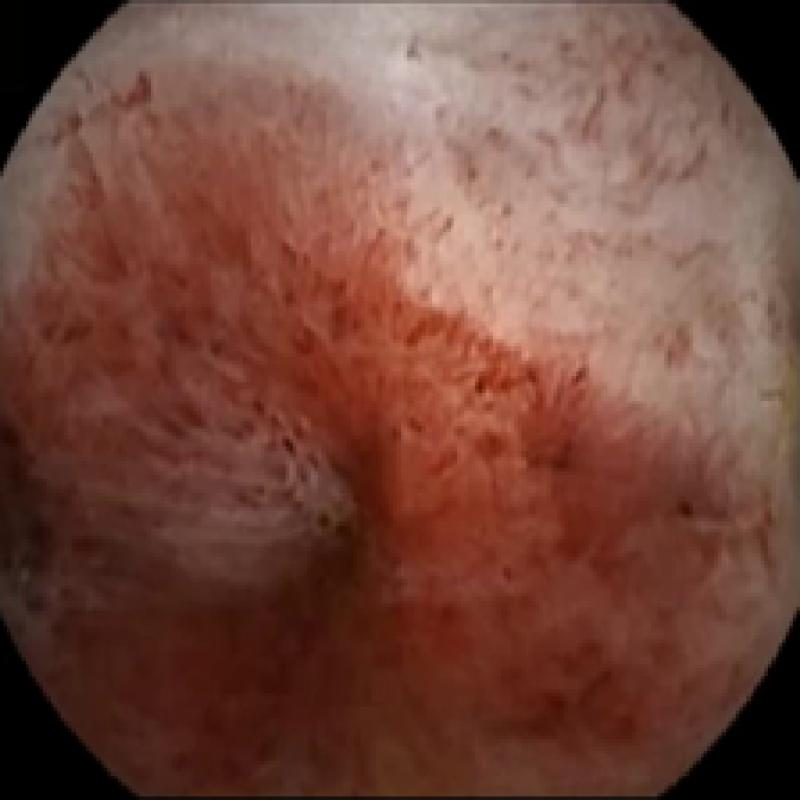bleeding: (0, 128, 785, 800)
